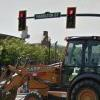Tractor: (21, 39, 100, 100)
